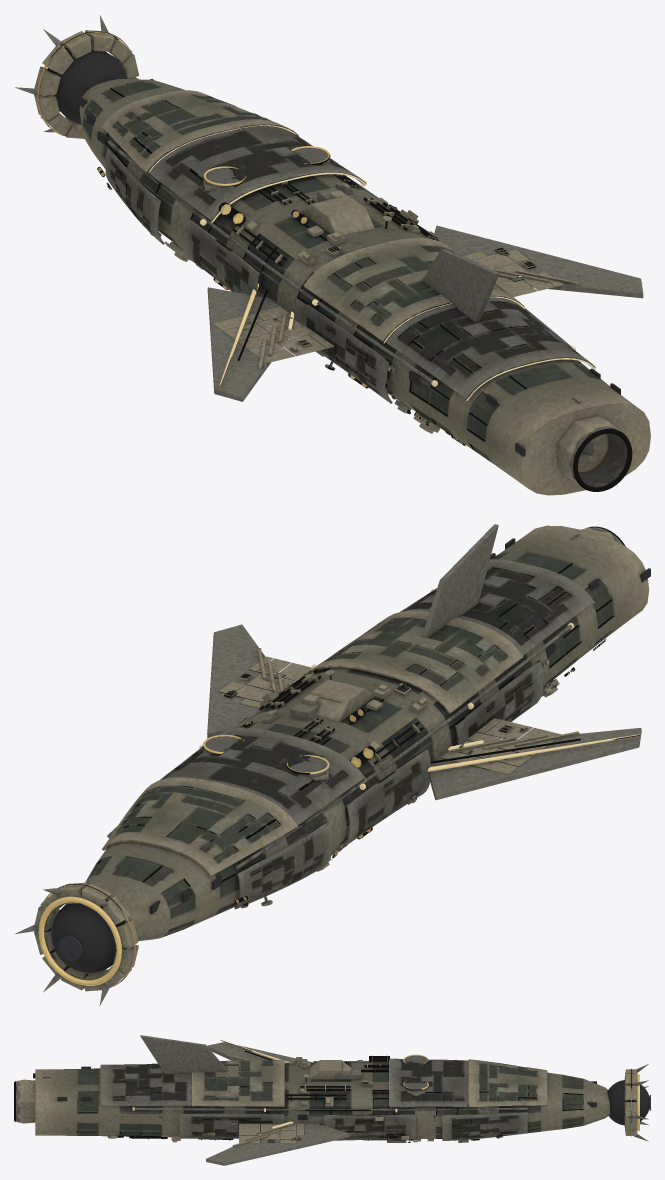
Rendered from eye_knife_hero.glb.
3 views of the same model, one above another, from view 1: azimuth 30°, elevation 25°; view 2: azimuth 150°, elevation 25°; view 3: azimuth 270°, elevation 25° (orthographic). The views are drawn at different scales.
Parts seen in each view (by area): view 1: HullBaked; view 2: HullBaked; view 3: HullBaked.
Part boxes in pixels (box(x1,y1,x2,y2)): HullBaked: box(15, 15, 650, 495); HullBaked: box(14, 524, 650, 1005); HullBaked: box(14, 1035, 650, 1165).
Bounding box in the file's own units: 26.86 × 9.88 × 58.22.
1 material, 1 textured.
